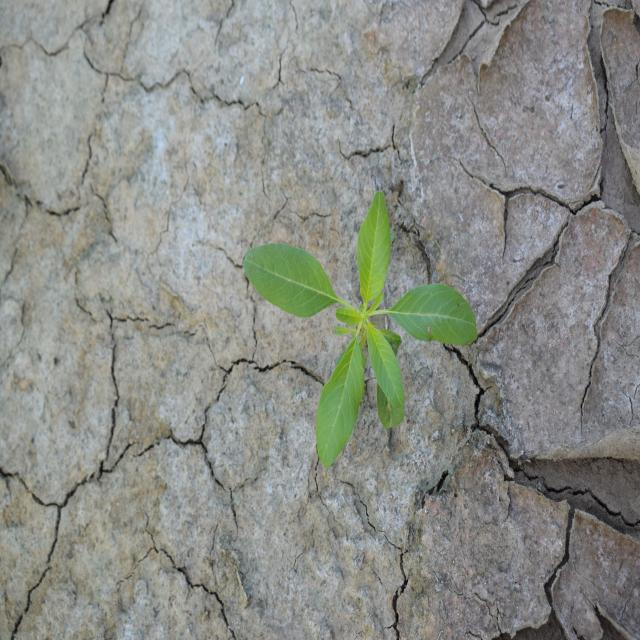Waterhemp: (242, 190, 478, 470)
